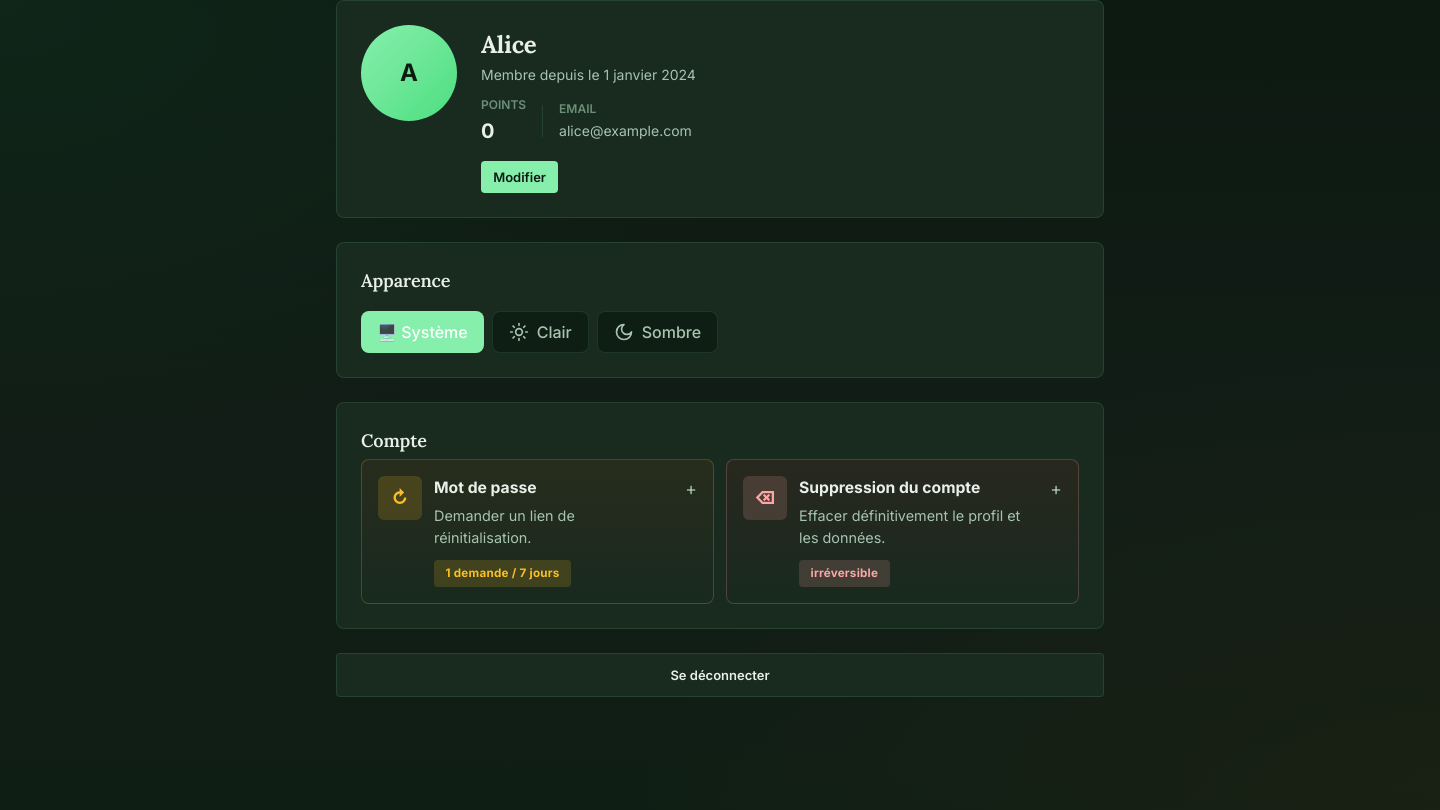
Test: ProfilePage — authenticated › cancels edit mode without saving
Check: the heading "Alice" is shown, box [481,29,536,60]
Click the button "Modifier" at (520, 177), box [481,161,558,193]
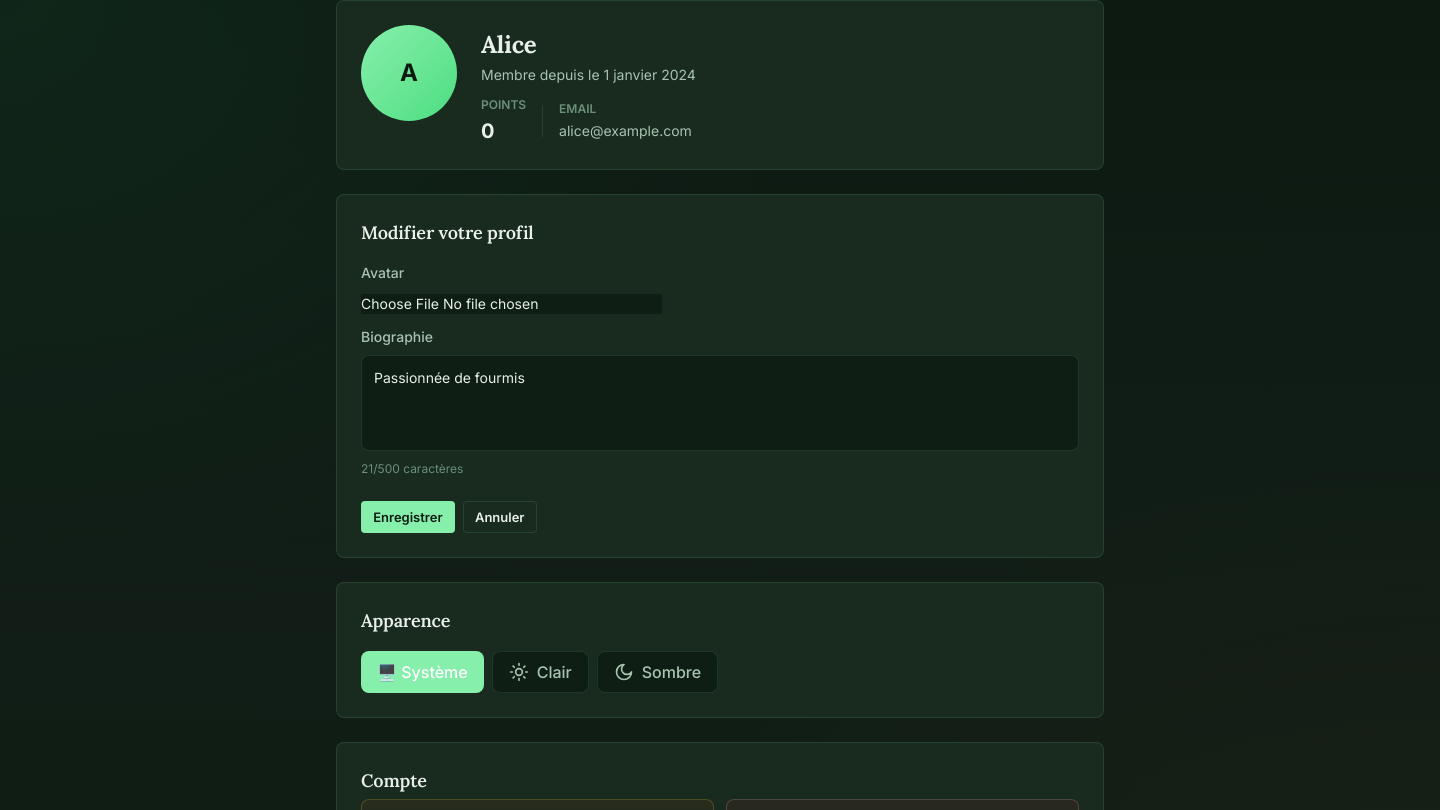
Check: the heading "Modifier votre profil" is shown, box [361,221,534,244]
Click the button "Annuler" at (500, 517), box [463,501,537,533]
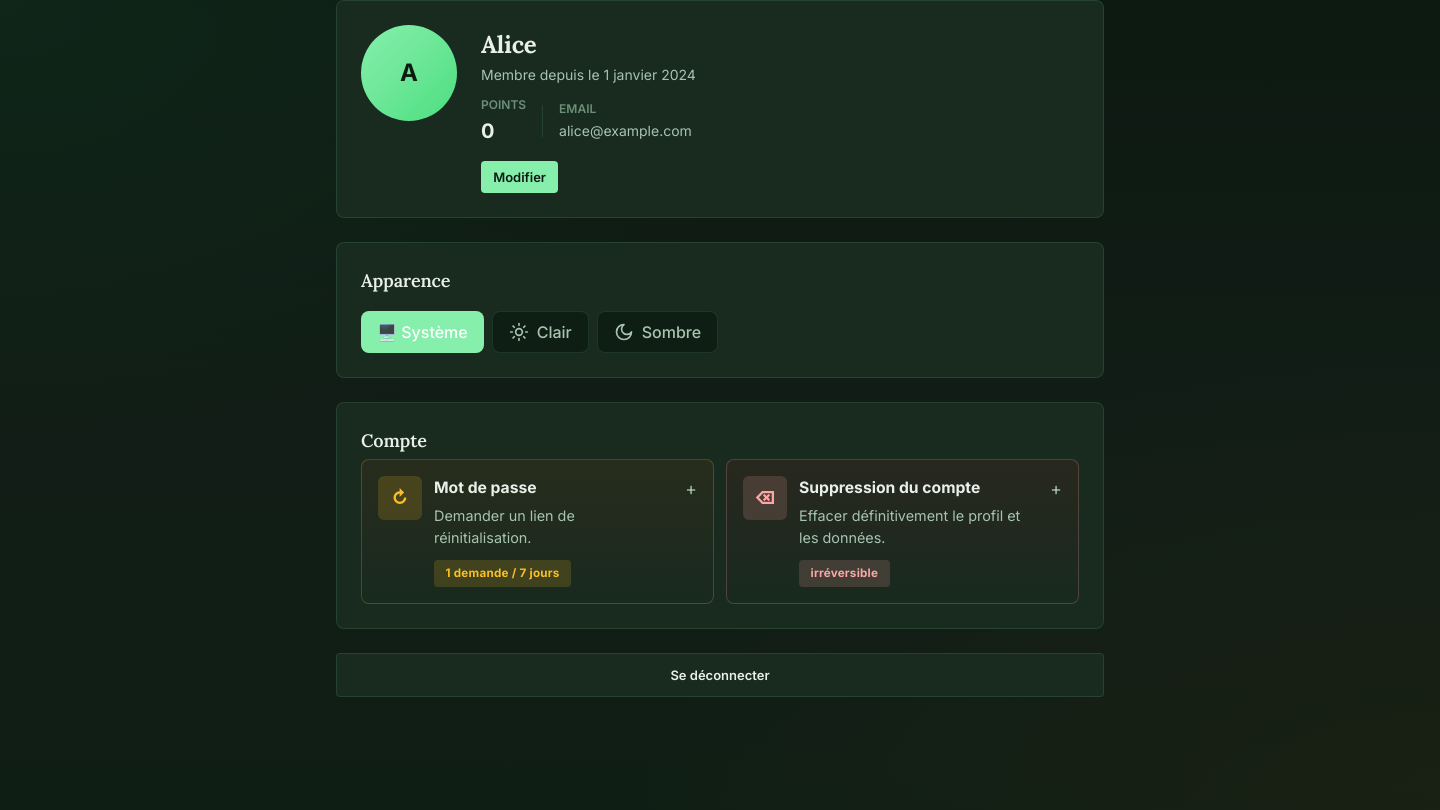
Check: the heading "Modifier votre profil" is gone
